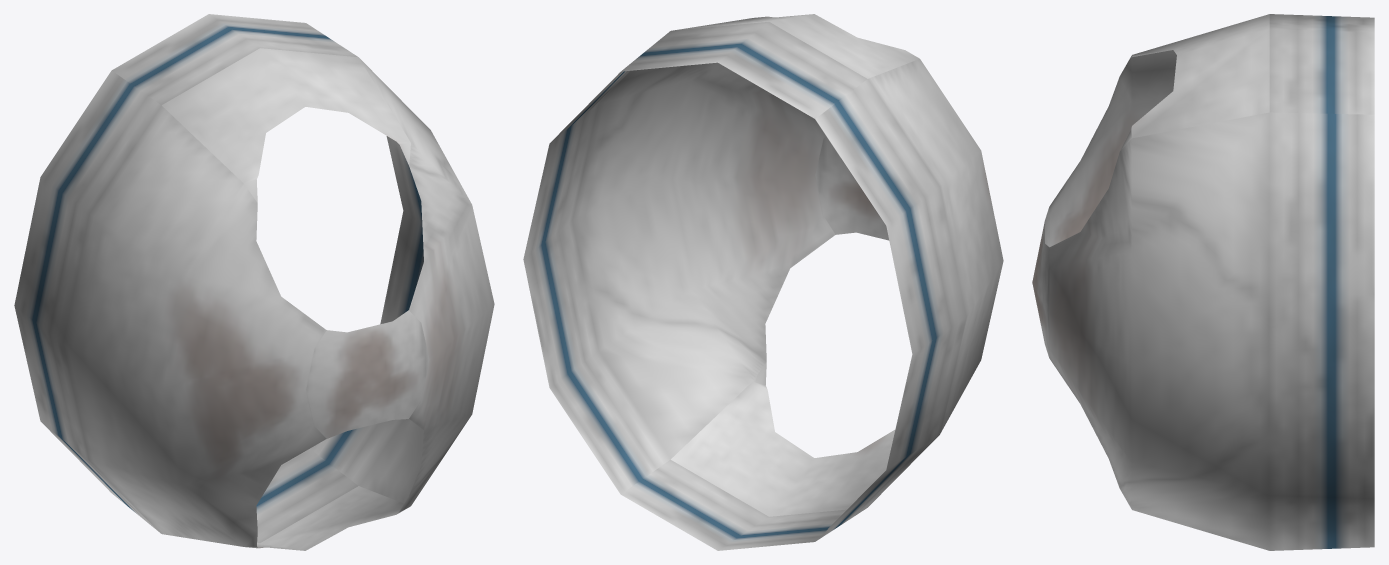
File: parachute.glb
The picture shows the model from 3 angles, left to right: view 1: azimuth 30°, elevation 25°; view 2: azimuth 150°, elevation 25°; view 3: azimuth 270°, elevation 25°; orthographic projection. The views are drawn at different scales.
Parts seen in each view (by area): view 1: undies; view 2: undies; view 3: undies.
Boxes of the visible parts, x1,y1,x2,y2 form: undies: (14,14,494,550); undies: (523,14,1003,550); undies: (1032,14,1374,550).
Size of the model in its own units: 1.69 by 2.03 by 1.24.
Materials: 1 (1 with a texture image).
